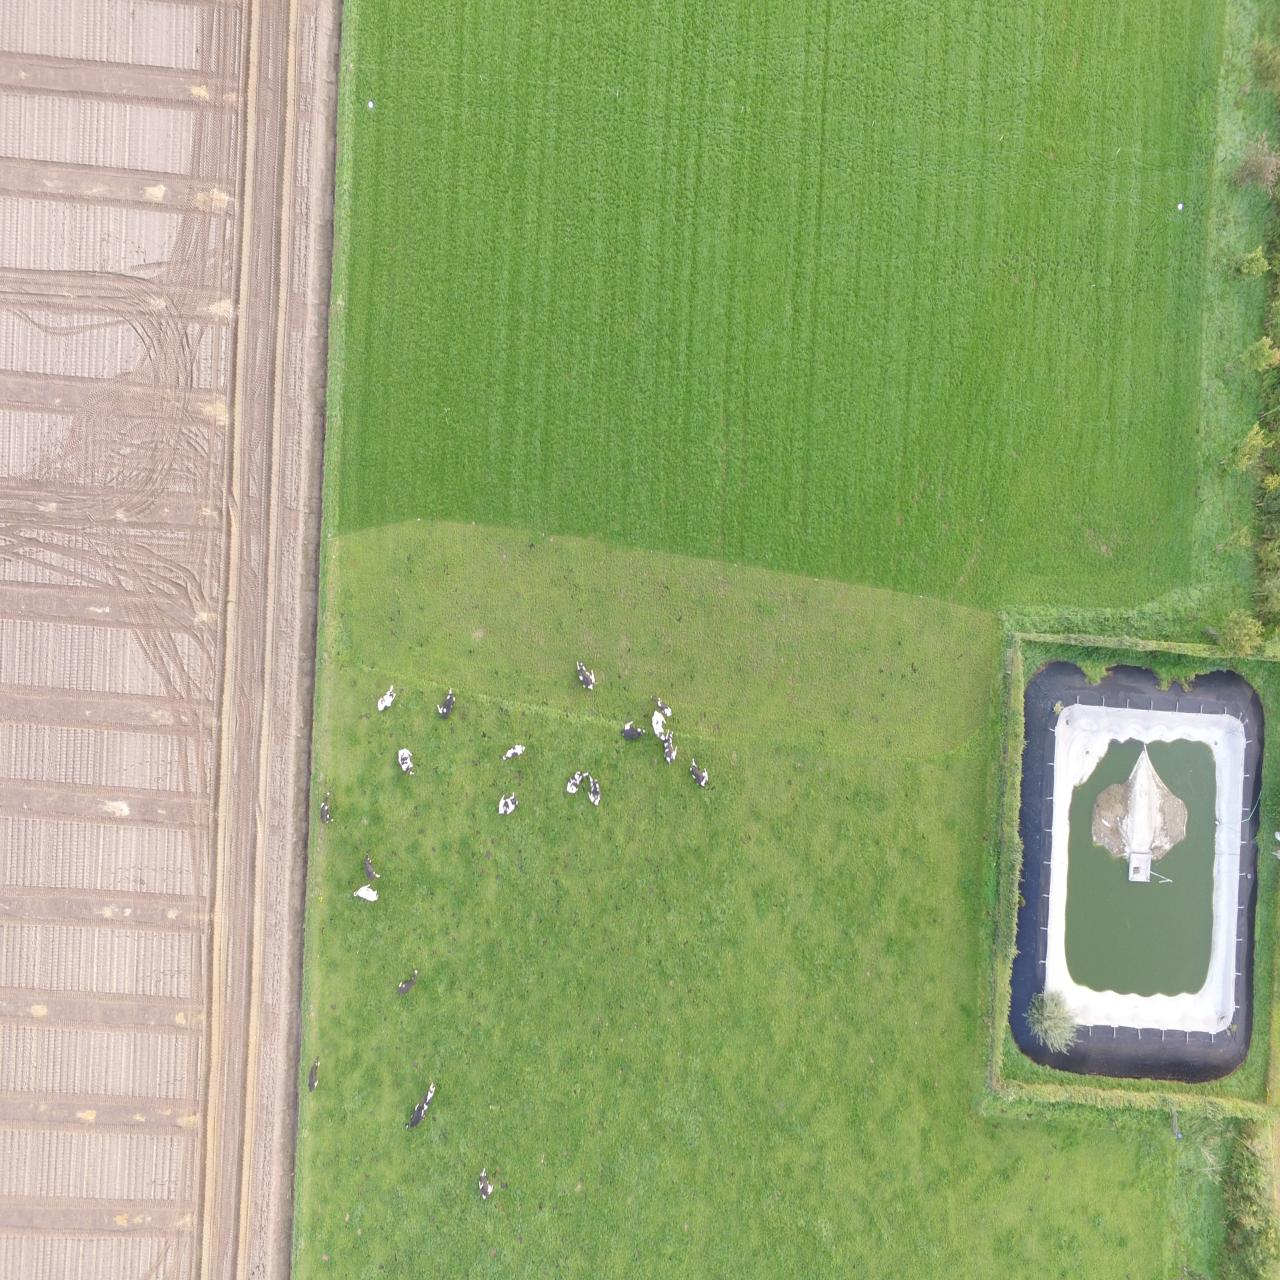cow: (436, 686, 458, 720), (688, 755, 710, 788), (395, 968, 418, 998), (403, 1099, 427, 1129), (648, 708, 668, 742), (576, 660, 595, 690), (350, 883, 380, 903), (564, 769, 587, 794), (319, 789, 334, 826), (376, 685, 397, 712), (363, 849, 380, 883), (479, 1166, 493, 1204), (651, 694, 673, 717), (496, 792, 519, 815), (587, 774, 602, 806), (397, 747, 415, 775), (621, 722, 645, 741), (308, 1054, 320, 1091), (424, 1081, 438, 1109), (501, 744, 526, 760), (663, 729, 674, 764)
